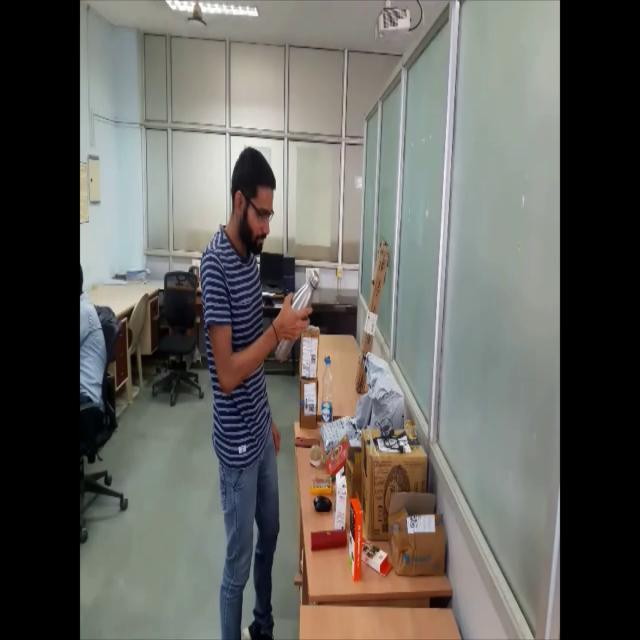normal: (198, 145, 322, 638)
